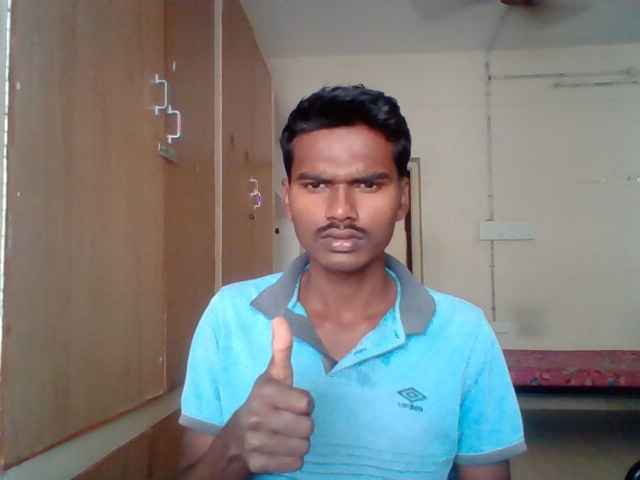Yes: (230, 311, 315, 478)
